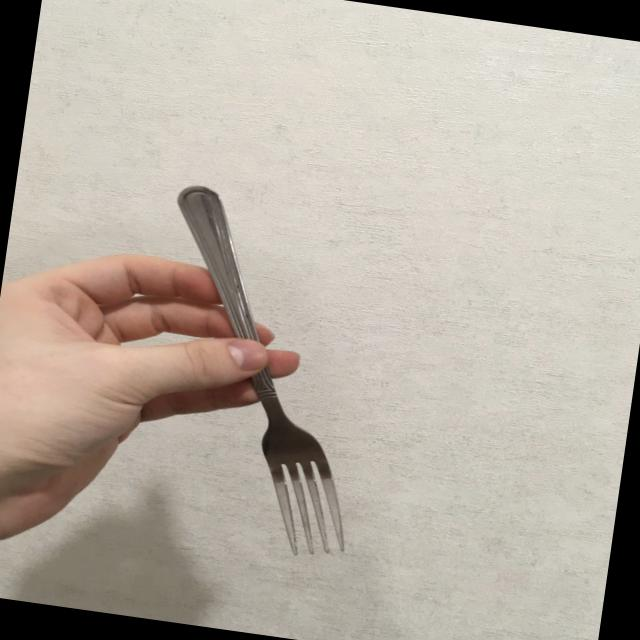fork: (126, 182, 390, 564)
